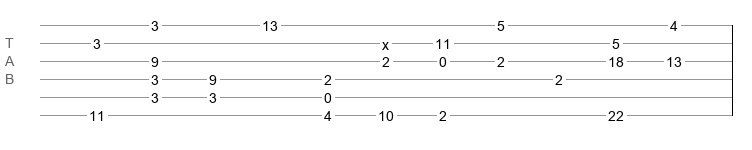0: (324, 90, 332, 100), (439, 54, 447, 64)
10: (378, 108, 394, 118)
11: (89, 108, 105, 118), (435, 36, 451, 46)
13: (262, 18, 278, 28), (666, 54, 682, 64)
18: (608, 54, 624, 64)
2: (324, 72, 332, 82), (382, 54, 390, 64), (439, 108, 447, 118), (497, 54, 505, 64), (555, 72, 563, 82)
22: (608, 108, 624, 118)
3: (93, 36, 101, 46), (151, 90, 159, 100), (151, 72, 159, 82), (151, 18, 159, 28), (209, 90, 217, 100)
4: (324, 108, 332, 118), (670, 18, 678, 28)
5: (497, 18, 505, 28), (612, 36, 620, 46)
9: (151, 54, 159, 64), (209, 72, 217, 82)
x: (382, 37, 389, 45)
